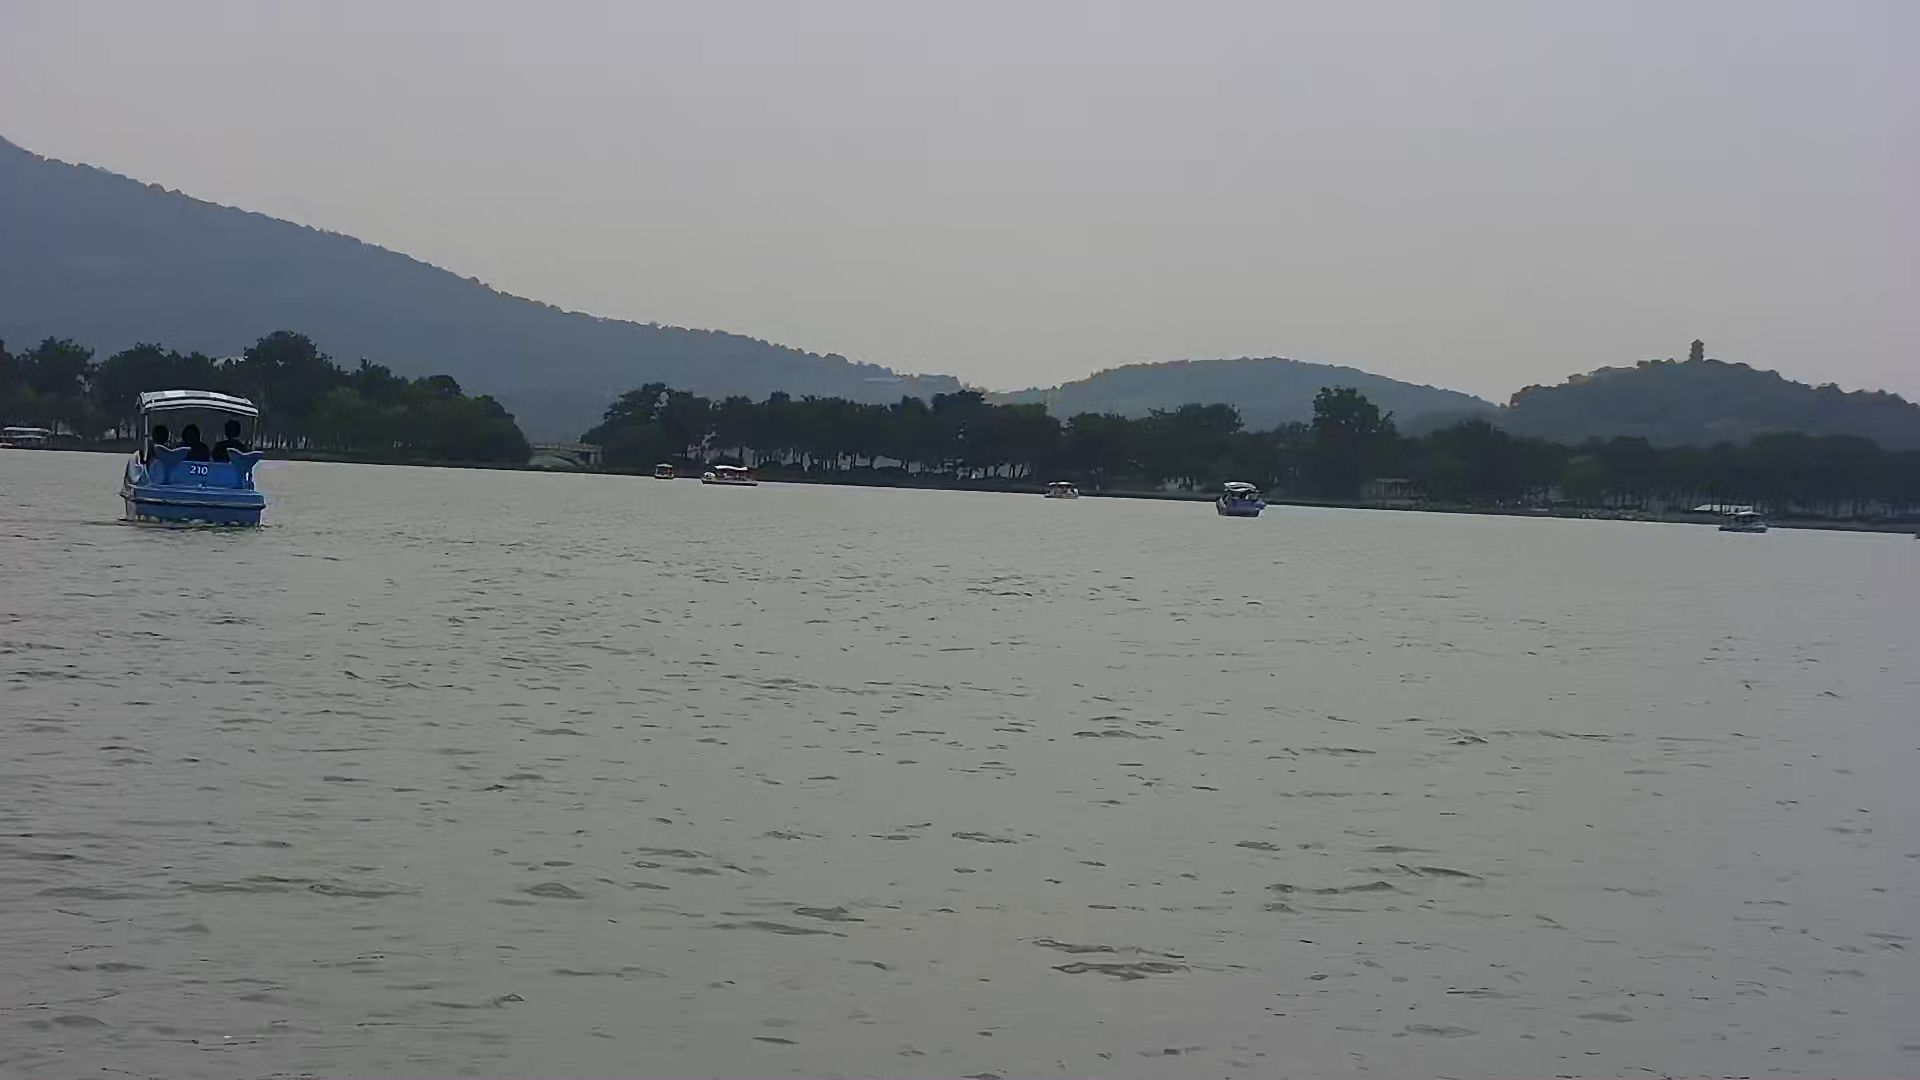boat: (117, 385, 272, 535), (1215, 477, 1270, 518), (702, 462, 760, 493), (1714, 502, 1767, 537), (1042, 479, 1077, 502)
